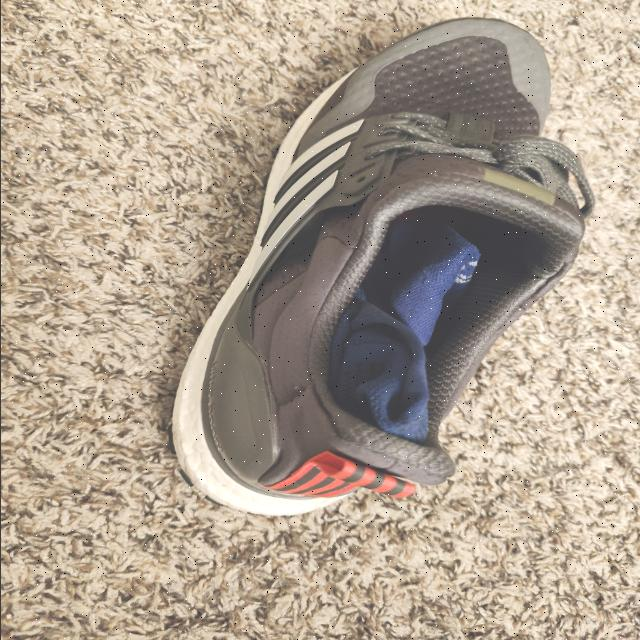black shoes: (173, 28, 546, 514)
